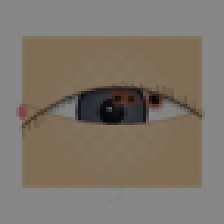foreign_body_visible: (116, 87, 146, 111)
